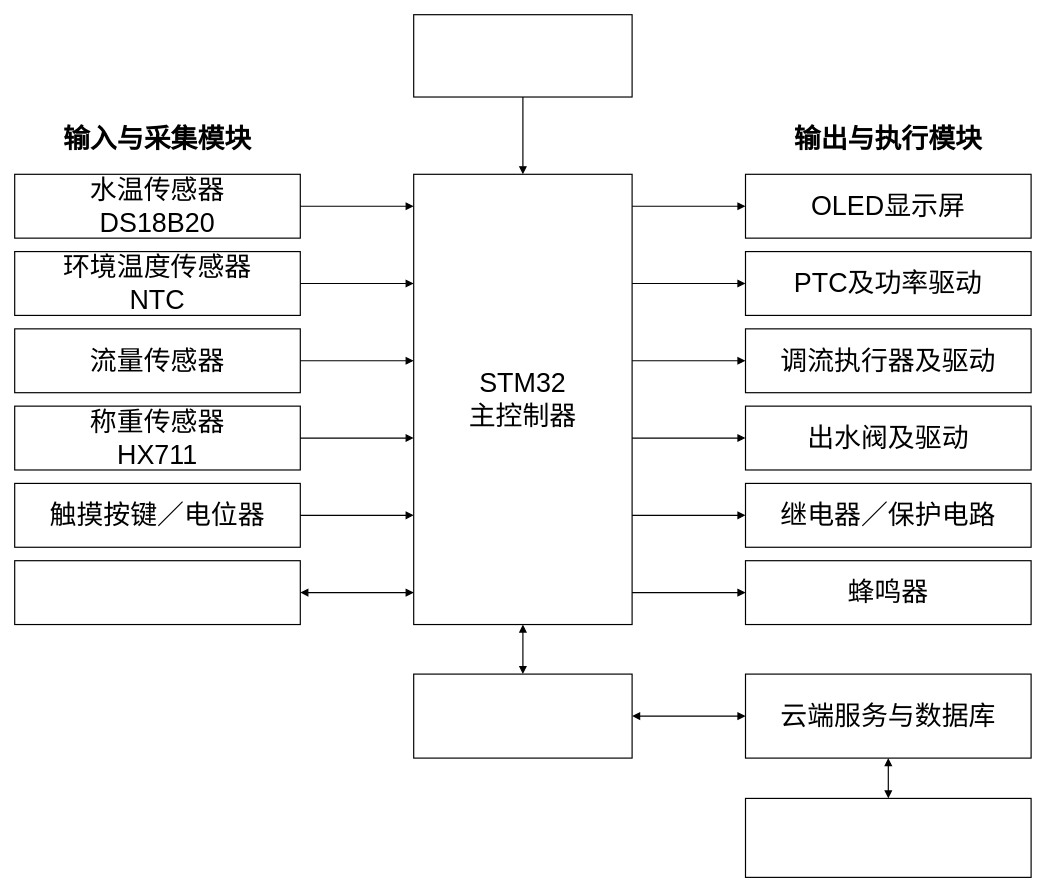
Some shapes in this 1047 by 893 pixel diagram are drawn without their labels. Each missing label, with the box of its shape:
RTC／Flash: (14, 560, 300, 625)
WiFi通信模块: (413, 673, 632, 758)
微信小程序: (744, 797, 1031, 878)
电源与稳压模块: (413, 14, 632, 97)
